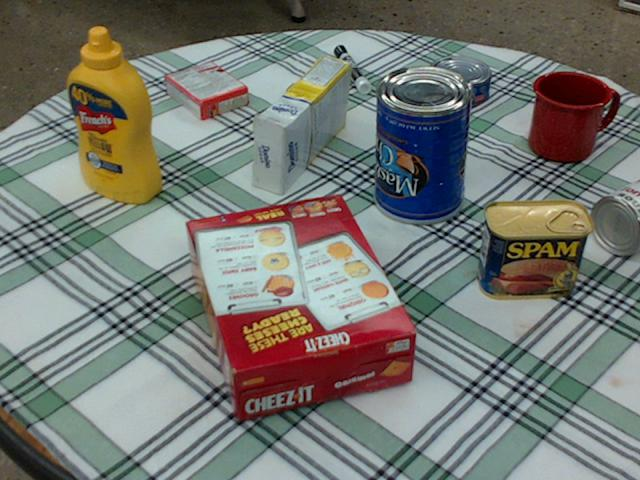cracker_box: (184, 194, 417, 421)
gelatin_box: (165, 62, 247, 119)
large_marker: (334, 44, 370, 92)
master_chef_can: (371, 65, 474, 222)
mug: (529, 71, 614, 162)
mustard_bottle: (67, 27, 160, 202)
potted_meat_can: (476, 199, 591, 299)
sugar_box: (253, 55, 350, 194)
tomato_soup_can: (590, 180, 639, 254)
tuna_fish_can: (428, 55, 491, 106)
